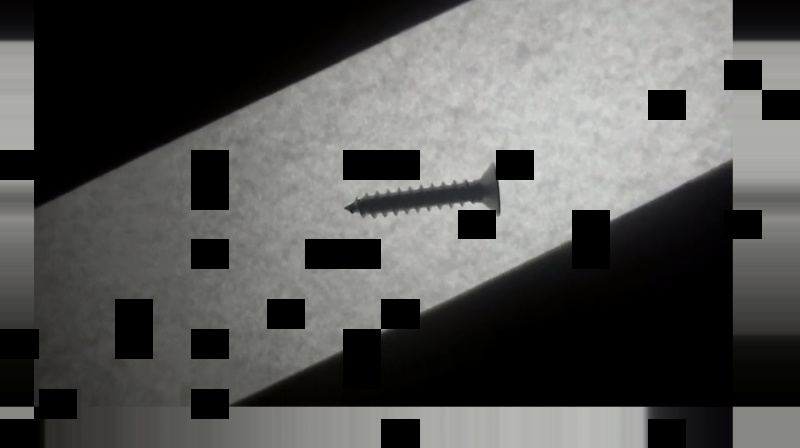S001: (338, 161, 503, 219)
